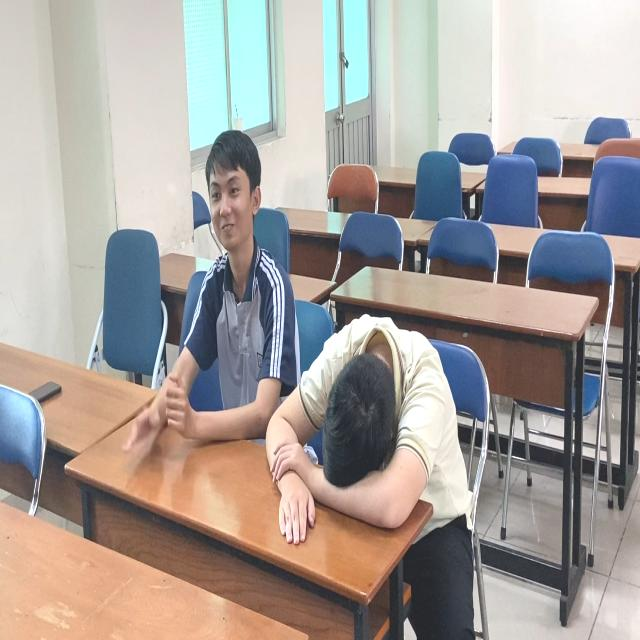sleep: (262, 293, 469, 563)
